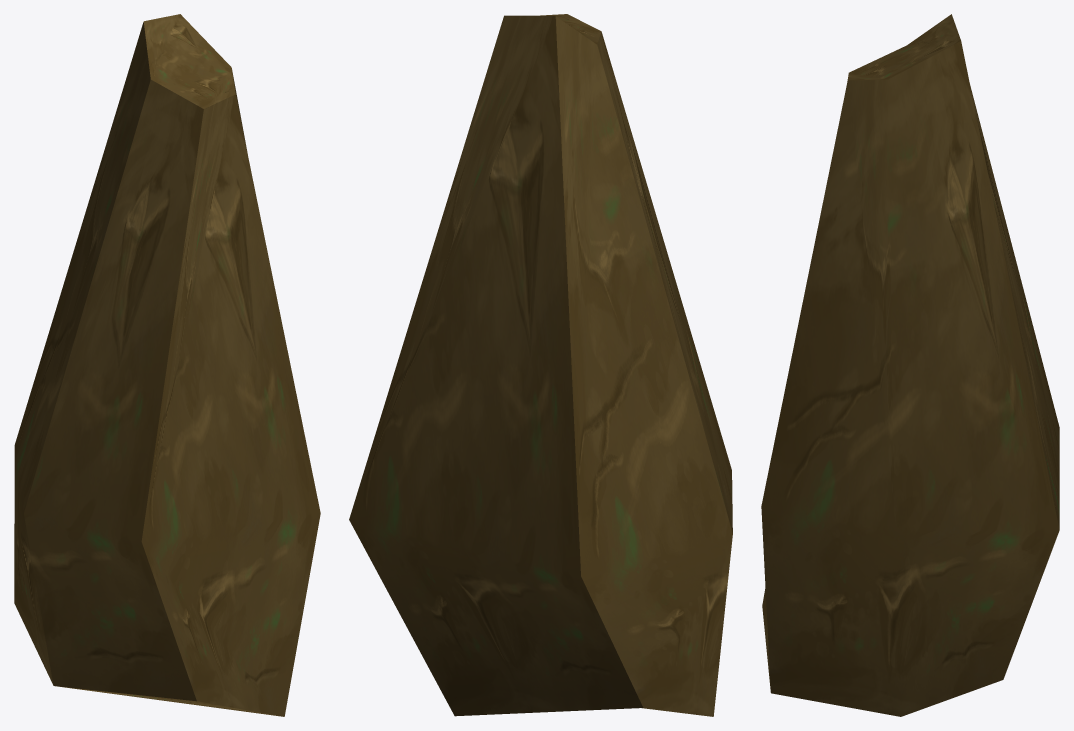
Rendered from floatingRock2.fbx.
3 views of the same model, side by side, from view 1: azimuth 30°, elevation 25°; view 2: azimuth 150°, elevation 25°; view 3: azimuth 270°, elevation 25° (orthographic). The views are drawn at different scales.
Parts seen in each view (by area): view 1: Box089; view 2: Box089; view 3: Box089.
Part boxes in pixels (x1,y1,x2,y2): Box089: [14, 14, 320, 716]; Box089: [349, 14, 732, 716]; Box089: [761, 14, 1059, 716].
Bounding box in the file's own units: 5.67 × 12.86 × 5.32.
1 material, 1 textured.
